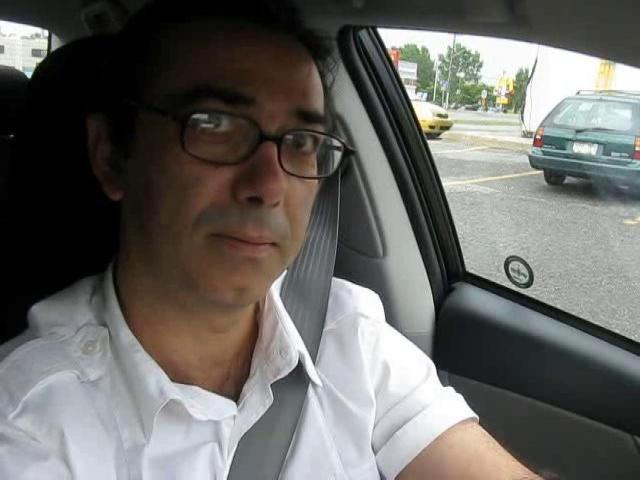eye_open: (278, 129, 323, 169), (192, 106, 244, 139)
face: (140, 90, 325, 310)
